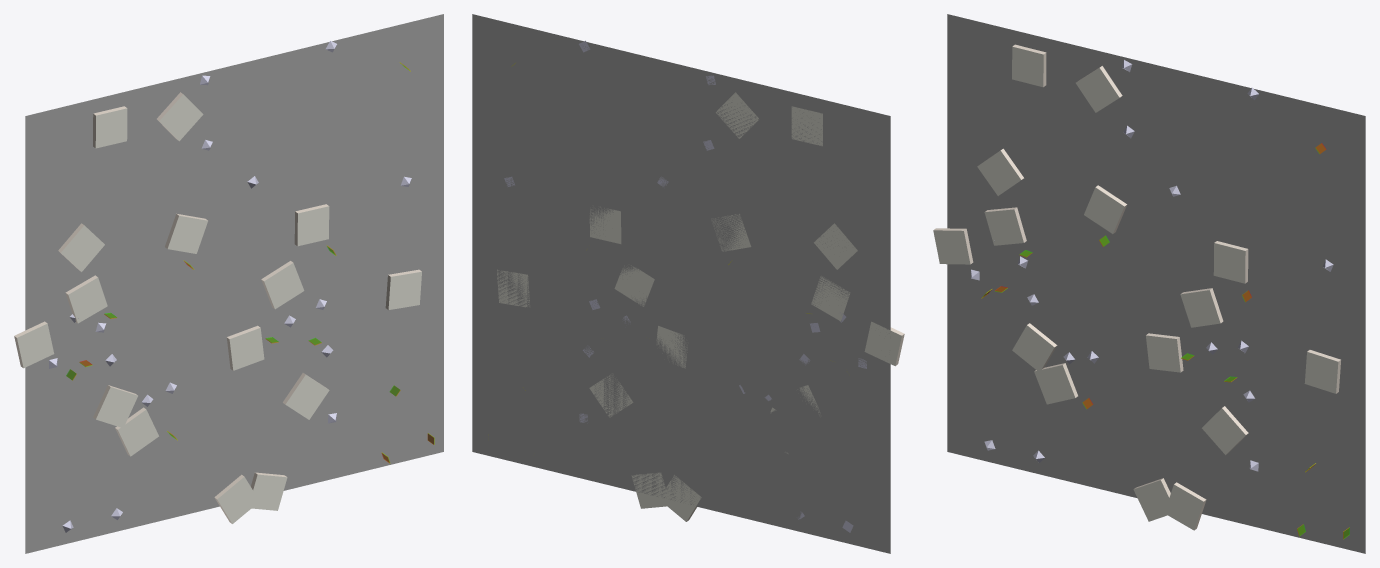
The model's file is bzworld_noTex.dae.
The picture shows the model from 3 angles, left to right: view 1: azimuth 30°, elevation 25°; view 2: azimuth 150°, elevation 25°; view 3: azimuth 330°, elevation 25°; orthographic projection.
Parts seen in each view (by area): view 1: Mesh_001, Mesh_024, Mesh_034, Mesh_006, Mesh_026, Mesh_004, Mesh_042, Mesh_003, Mesh_033, Mesh_036, Mesh_040, Mesh_018 (+4 smaller); view 2: Mesh_001, Mesh_026, Mesh_024, Mesh_042, Mesh_035, Mesh_040, Mesh_005, Mesh_002, Mesh_003, Mesh_006, Mesh_004, Mesh_041 (+2 smaller); view 3: Mesh_001, Mesh_026, Mesh_024, Mesh_034, Mesh_006, Mesh_004, Mesh_042, Mesh_003, Mesh_033, Mesh_018, Mesh_036, Mesh_041 (+4 smaller).
Part boxes in pixels (x1,y1,x2,y2): Mesh_001: (25,14,443,553); Mesh_024: (93,106,127,148); Mesh_034: (226,325,264,370); Mesh_006: (385,269,421,309); Mesh_026: (14,321,54,368); Mesh_004: (294,204,329,246); Mesh_042: (65,275,107,323); Mesh_003: (261,261,304,309); Mesh_033: (165,213,207,253); Mesh_036: (93,385,137,428); Mesh_040: (157,92,203,141); Mesh_018: (115,407,158,456); Mesh_001: (472,14,890,553); Mesh_026: (864,321,904,366); Mesh_024: (791,106,822,146); Mesh_042: (811,276,850,321); Mesh_035: (814,223,857,269); Mesh_040: (716,92,758,138); Mesh_005: (631,472,670,508); Mesh_002: (659,475,701,521); Mesh_003: (614,265,654,306); Mesh_006: (497,269,529,307); Mesh_004: (589,206,621,243); Mesh_041: (589,373,633,417); Mesh_001: (947,14,1365,553); Mesh_026: (933,228,973,264); Mesh_024: (1012,44,1046,87); Mesh_034: (1146,333,1183,372); Mesh_006: (1304,350,1340,393); Mesh_004: (1213,241,1248,283); Mesh_042: (984,207,1026,245); Mesh_003: (1180,288,1223,327); Mesh_033: (1084,185,1127,233); Mesh_018: (1034,363,1077,404); Mesh_036: (1012,323,1057,371); Mesh_041: (1202,406,1248,454).
Bounding box in the file's own units: 822 × 21.28 × 835.
